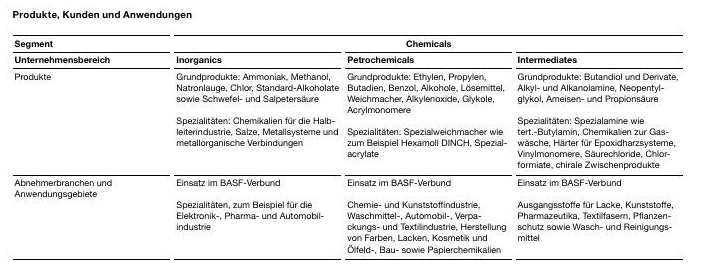table: (0, 0, 701, 270)
